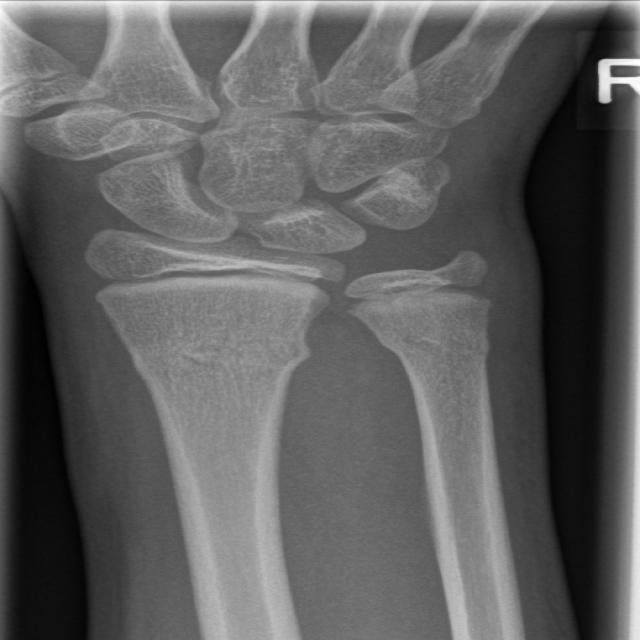radius fracture: (100, 307, 350, 407)
